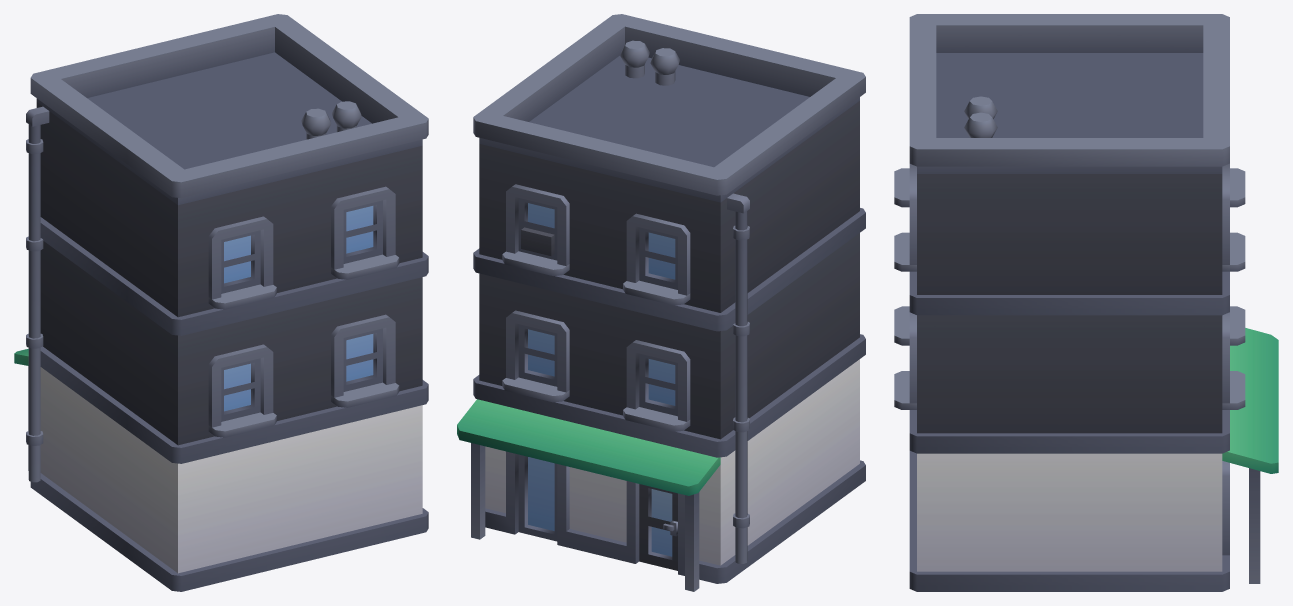
Rendered from kenney-city-commercial-building-h.glb.
3 views of the same model, side by side, from view 1: azimuth 30°, elevation 25°; view 2: azimuth 150°, elevation 25°; view 3: azimuth 270°, elevation 25° (orthographic). The views are drawn at different scales.
Visible parts, largest first — view 1: building-h; view 2: building-h; view 3: building-h.
Part boxes in pixels (x1,y1,x2,y2): building-h: [14, 14, 428, 591]; building-h: [457, 14, 865, 591]; building-h: [894, 14, 1278, 591].
Bounding box in the file's own units: 0.8835 × 1.29 × 1.01.
Materials: 1 (1 with a texture image).
